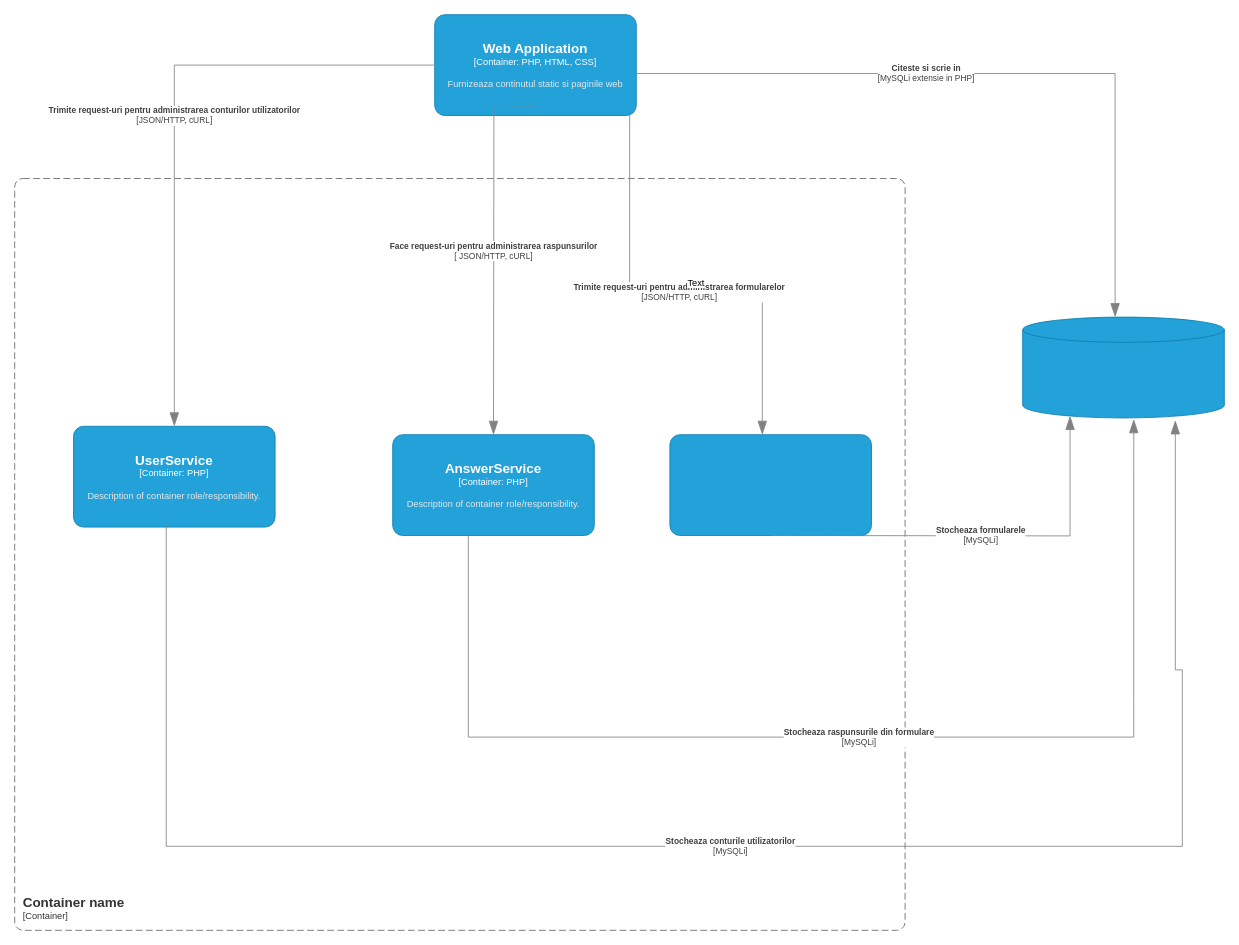
Image size: 1239x945. Some labels were removed from this diagram. The shapes that lost their labels are listed below. From the top down, each one's box as (x1, y1, x2, y2) in pixels, then its label:
(1022, 316, 1224, 418): Database [Container: MYSQL] Stocheaza conturi, formulare, raspunsuri
(669, 434, 872, 536): FormService [Container: PHP] .
